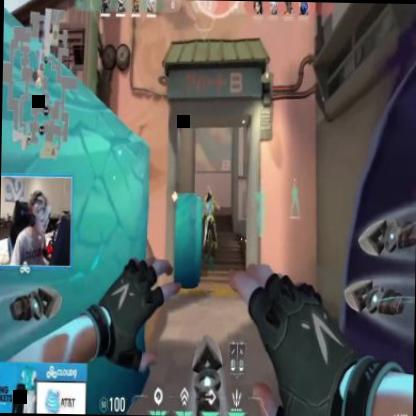enemy: (201, 186, 219, 272)
enemy_head: (206, 186, 212, 198)
